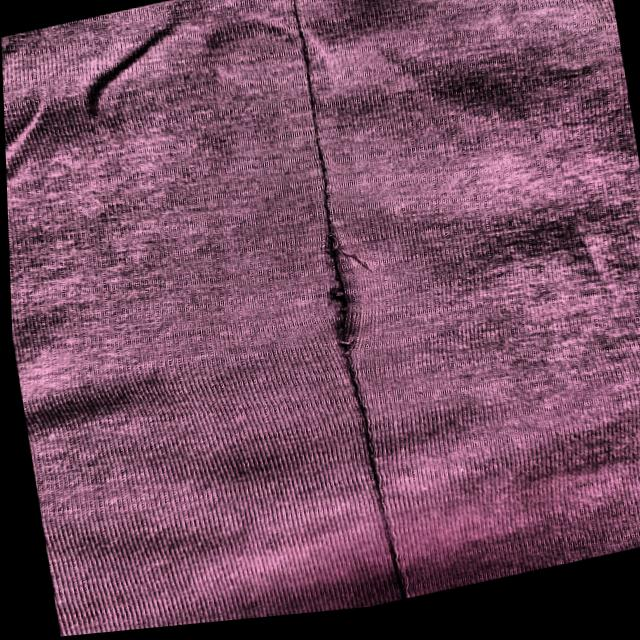Stitch: (315, 236, 356, 369), (337, 240, 366, 292)
